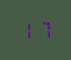one: (19, 21, 34, 40)
seven: (35, 20, 50, 38)
